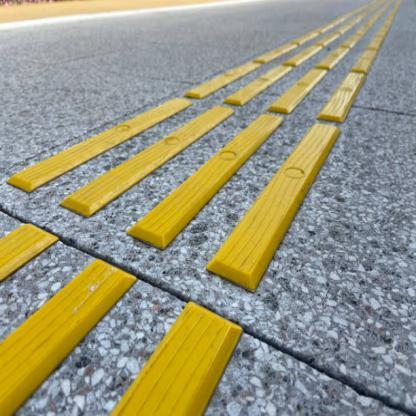podotacti: (1, 0, 402, 412)
